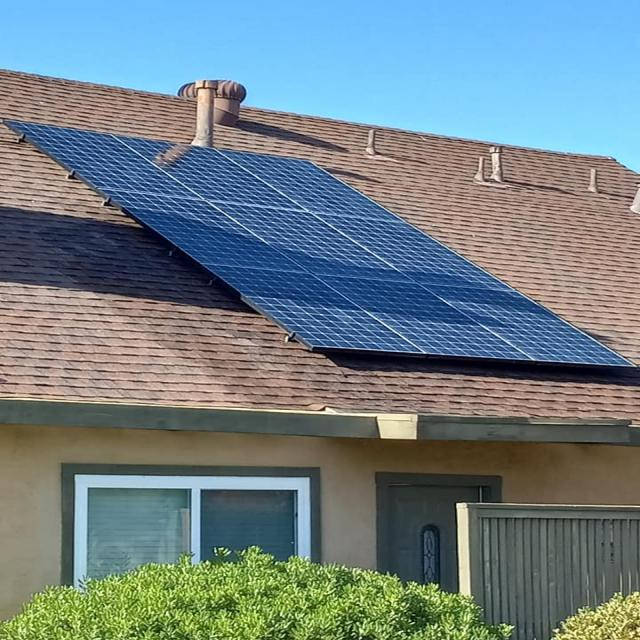dust-solar-panel: (8, 121, 632, 366)
